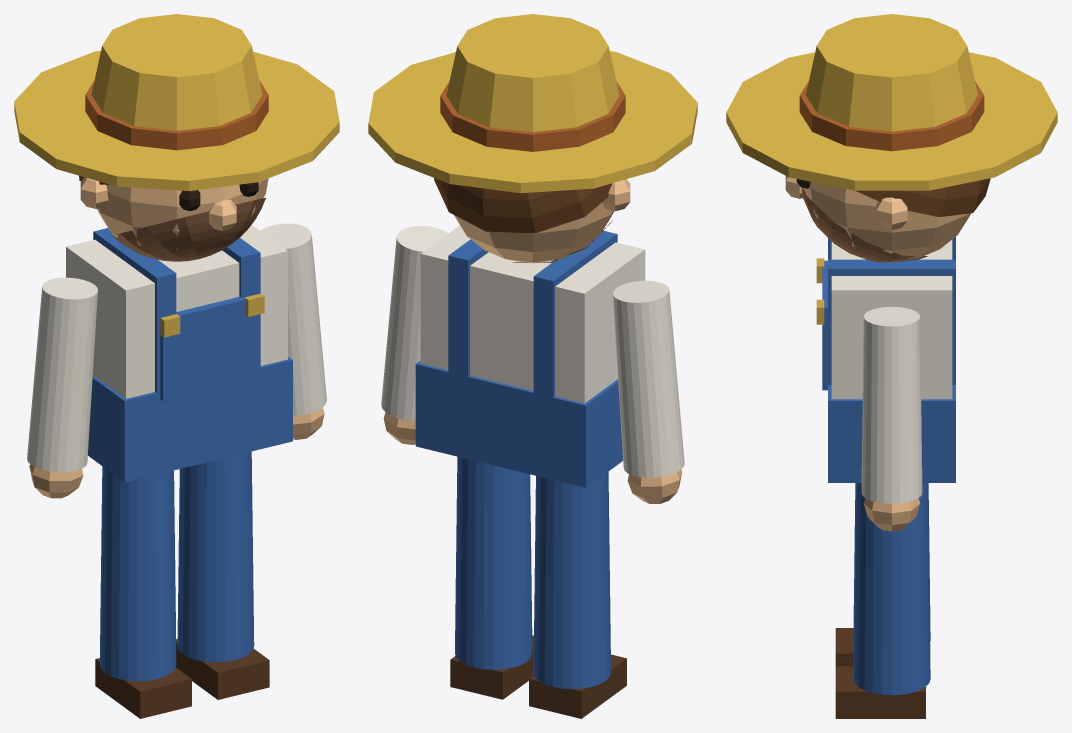
File: HERO_MAX.glb
3 renders of one model, left to right at view 1: azimuth 30°, elevation 25°; view 2: azimuth 150°, elevation 25°; view 3: azimuth 270°, elevation 25°, orthographic.
Parts seen in each view (by area): view 1: head, hero_max, leg_left, leg_right, torso, arm_left, arm_right; view 2: head, hero_max, torso, leg_left, leg_right, arm_left, arm_right; view 3: head, leg_right, arm_right, torso, hero_max, leg_left.
Part boxes in pixels (box(x1,y1,x2,y2)): head: box(14, 14, 339, 261); hero_max: box(88, 228, 292, 482); leg_left: box(95, 466, 191, 718); leg_right: box(176, 451, 269, 699); torso: box(66, 225, 287, 398); arm_left: box(27, 277, 97, 498); arm_right: box(261, 223, 326, 439); head: box(368, 14, 697, 263); hero_max: box(415, 230, 622, 487); torso: box(420, 225, 645, 403); leg_left: box(529, 471, 626, 718); leg_right: box(450, 456, 533, 699); arm_left: box(613, 280, 684, 503); arm_right: box(381, 226, 448, 444); head: box(726, 14, 1057, 262); leg_right: box(835, 483, 930, 718); arm_right: box(861, 306, 922, 531); torso: box(831, 239, 952, 399); hero_max: box(816, 236, 955, 482); leg_left: box(835, 483, 930, 666).
Size of the model in its own units: 0.9014 by 1.88 by 0.88.
